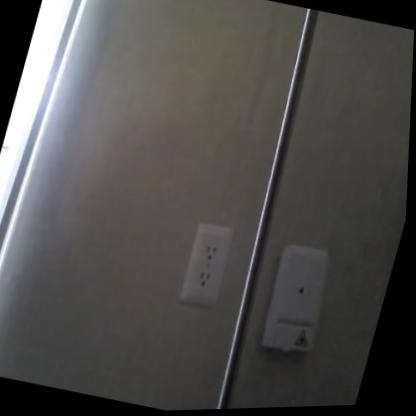OUTLET: (178, 220, 236, 309)
